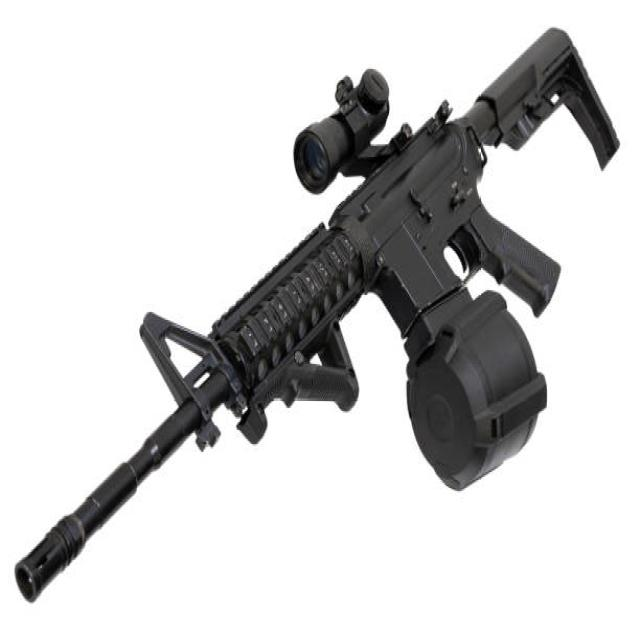Rifle: (15, 28, 621, 602)
